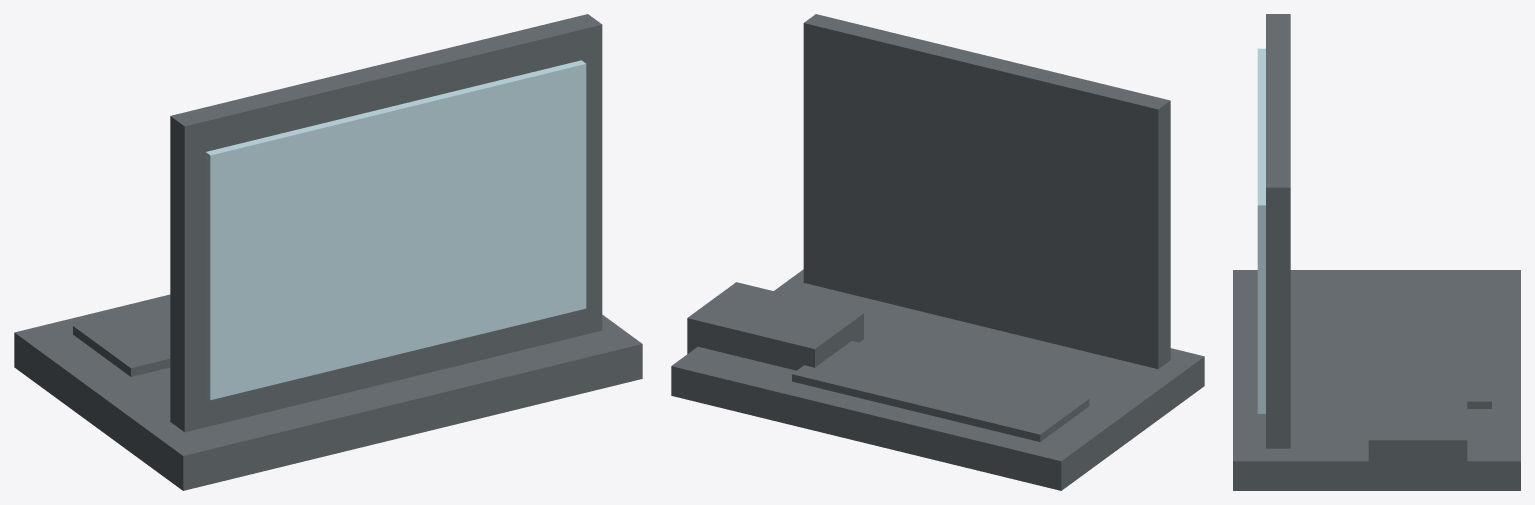
Rendered from computer_basic.glb.
The picture shows the model from 3 angles, left to right: view 1: azimuth 30°, elevation 25°; view 2: azimuth 150°, elevation 25°; view 3: azimuth 270°, elevation 25°; orthographic projection. The views are drawn at different scales.
Visible parts, largest first — view 1: p002, p001, p000, p004; view 2: p001, p000, p004, p003; view 3: p000, p001, p004, p003, p002.
Part boxes in pixels (bbox=[...]): p002: bbox=[205, 60, 586, 400]; p001: bbox=[170, 14, 602, 432]; p000: bbox=[14, 294, 642, 490]; p004: bbox=[73, 302, 170, 376]; p001: bbox=[803, 14, 1170, 369]; p000: bbox=[671, 269, 1204, 490]; p004: bbox=[792, 341, 1089, 441]; p003: bbox=[687, 282, 863, 370]; p000: bbox=[1233, 270, 1520, 490]; p001: bbox=[1266, 14, 1290, 448]; p004: bbox=[1393, 280, 1491, 408]; p003: bbox=[1368, 377, 1467, 477]; p002: bbox=[1257, 48, 1265, 413].
Bounding box in the file's own units: 0.565 × 0.395 × 0.35.
